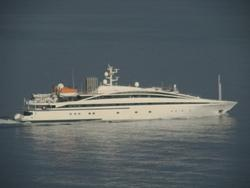yacht: (14, 58, 240, 124)
